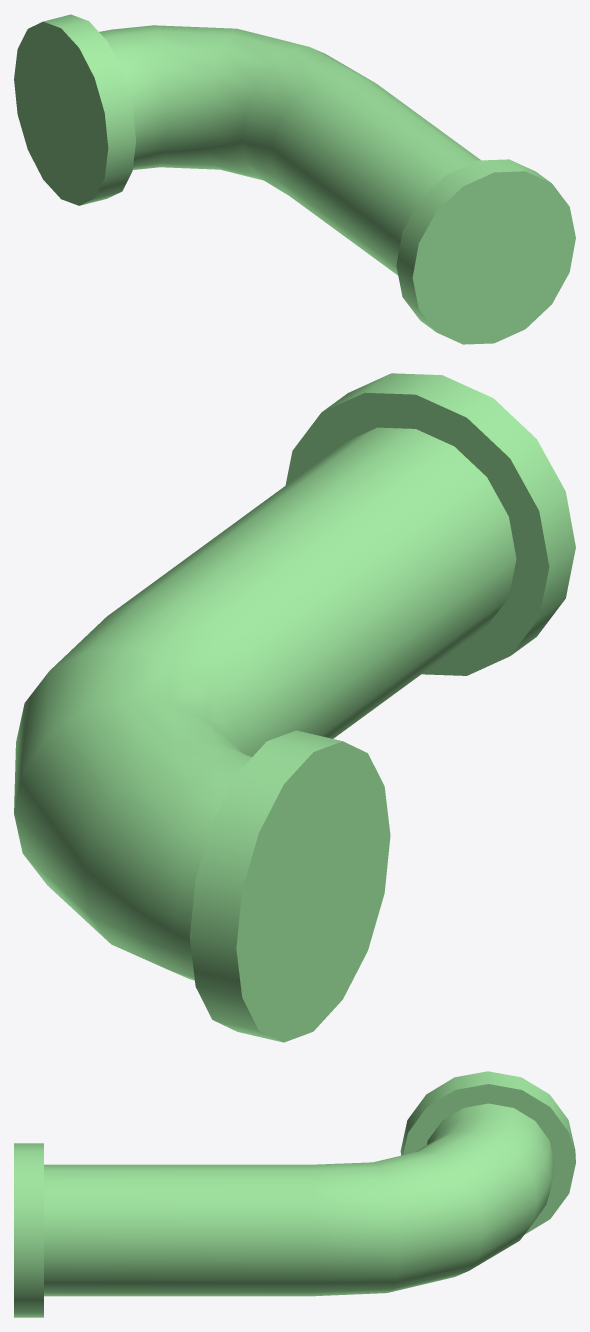
Rendered from CanoCurvo.fbx.
3 views of the same model, one above another, from view 1: azimuth 30°, elevation 25°; view 2: azimuth 150°, elevation 25°; view 3: azimuth 270°, elevation 25° (orthographic). The views are drawn at different scales.
Parts seen in each view (by area): view 1: CanoCurvo; view 2: CanoCurvo; view 3: CanoCurvo.
Part boxes in pixels (x1,y1,x2,y2): CanoCurvo: (14, 14, 575, 344); CanoCurvo: (14, 373, 575, 1042); CanoCurvo: (14, 1071, 575, 1317).
Size of the model in its own units: 17.5 by 11.05 by 35.55.
